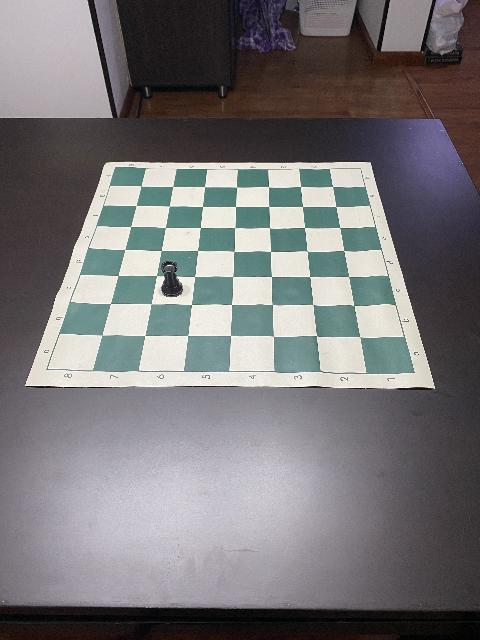black-rook: (160, 259, 184, 297)
board: (26, 160, 436, 388)
